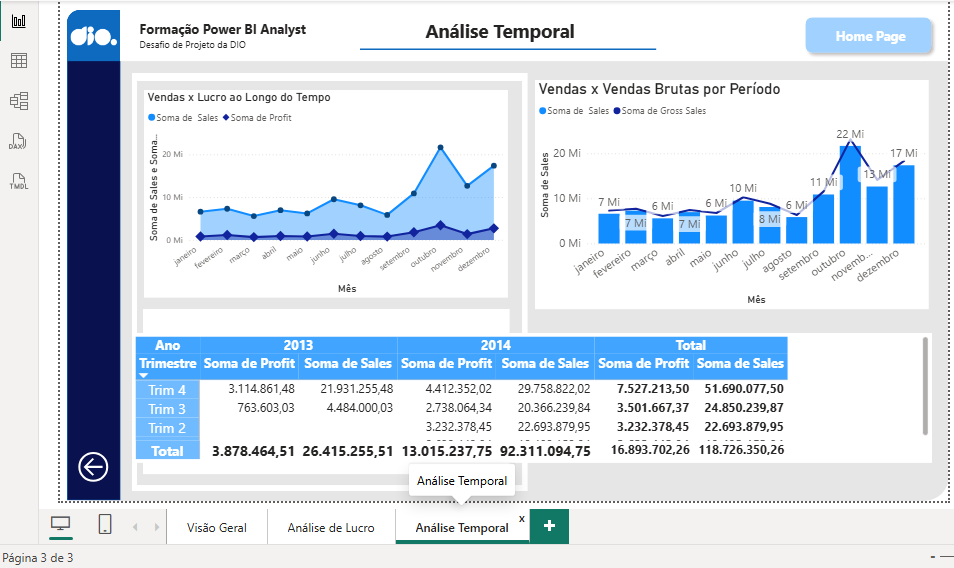

The page's visual inventory and layout, read from the dashboard file:
{"tool":"powerbi","page":{"name":"Análise Temporal","canvas":[1280,720],"ordinal":2},"visuals":[{"type":"group","id":"g1","title":"Layout","box":[10,12.8,1270,707],"z":0},{"type":"shape","box":[10,12.8,1270,707],"z":0,"group":"g1"},{"type":"shape","box":[432,49.9,426.8,38.3],"z":0,"group":"g3"},{"type":"shape","box":[103.6,103.6,569.9,601.9],"z":0,"group":"g2"},{"type":"shape","box":[10.1,13.4,77.2,706.3],"z":1000,"group":"g1"},{"type":"textbox","box":[433.2,18.7,424.3,53.9],"z":1000,"group":"g3"},{"type":"lineClusteredColumnComboChart","title":"Vendas x Vendas Brutas por Período","fields":{"Category":["financials.Date.Variation.Hierarquia de datas.Mês"],"Y":["Sum(financials. Sales)"],"Y2":["Sum(financials.Gross Sales)"]},"box":[684,113.8,567.4,329.8],"z":1000},{"type":"shape","box":[110.3,114.6,554.7,582.1],"z":1000,"group":"g2"},{"type":"shape","box":[10.1,13.4,77.2,73.8],"z":2000,"group":"g1"},{"type":"group","id":"g2","title":"Detalhes venda x profit","box":[103.6,103.6,962.5,601.9],"z":2000},{"type":"shape","box":[120.1,443.5,528.4,238.2],"z":2000,"group":"g2"},{"type":"image","title":"logo_dio","box":[10.1,18.4,77.2,62.1],"z":3000,"group":"g1"},{"type":"textbox","title":"Título do report","box":[109.7,22.9,377.9,64],"z":3000},{"type":"areaChart","title":"Vendas x Lucro ao Longo do Tempo","fields":{"Category":["financials.Date.Variation.Hierarquia de datas.Trimestre","financials.Date.Variation.Hierarquia de datas.Mês"],"Y":["Sum(financials. Sales)","Sum(financials.Profit)"]},"box":[120.9,128.6,524.2,298.7],"z":3000,"group":"g2"},{"type":"shape","box":[87,12.8,1193.1,74.1],"z":4000,"group":"g1"},{"type":"group","id":"g3","title":"Sales report","box":[432,18.7,426.2,69.1],"z":4000},{"type":"pivotTable","fields":{"Columns":["financials.Date.Variation.Hierarquia de datas.Ano"],"Rows":["financials.Date.Variation.Hierarquia de datas.Trimestre"],"Values":["Sum(financials.Profit)","Sum(financials. Sales)"]},"box":[104.1,468.5,961.9,197.3],"z":4000,"group":"g2"},{"type":"actionButton","box":[20.6,622.4,55.6,96.9],"z":6000},{"type":"actionButton","title":"Home Page","box":[1064.7,14.6,199.6,69.2],"z":9000,"group":"g4"},{"type":"textbox","box":[1101,33.7,134.4,34.6],"z":9500,"group":"g4"},{"type":"group","id":"g4","title":"Botão home","box":[1064.7,14.6,199.6,69.2],"z":9501}]}

Visuals, with their boxes on the page's 1280x720 design canvas (x1, y1, x2, y2). These are canvas units, not pixel positions in the 954x568 screenshot, which may show the page scaled, cropped or inside an application window:
"Layout" group: pyautogui.locateOnScreen(10, 13, 1280, 720)
shape: pyautogui.locateOnScreen(10, 13, 1280, 720)
shape: pyautogui.locateOnScreen(432, 50, 859, 88)
shape: pyautogui.locateOnScreen(104, 104, 674, 706)
shape: pyautogui.locateOnScreen(10, 13, 87, 720)
textbox: pyautogui.locateOnScreen(433, 19, 858, 73)
"Vendas x Vendas Brutas por Período" lineClusteredColumnComboChart: pyautogui.locateOnScreen(684, 114, 1251, 444)
shape: pyautogui.locateOnScreen(110, 115, 665, 697)
shape: pyautogui.locateOnScreen(10, 13, 87, 87)
"Detalhes venda x profit" group: pyautogui.locateOnScreen(104, 104, 1066, 706)
shape: pyautogui.locateOnScreen(120, 444, 648, 682)
"logo_dio" image: pyautogui.locateOnScreen(10, 18, 87, 80)
"Título do report" textbox: pyautogui.locateOnScreen(110, 23, 488, 87)
"Vendas x Lucro ao Longo do Tempo" areaChart: pyautogui.locateOnScreen(121, 129, 645, 427)
shape: pyautogui.locateOnScreen(87, 13, 1280, 87)
"Sales report" group: pyautogui.locateOnScreen(432, 19, 858, 88)
pivotTable - financials.Date.Variation.Hierarquia de datas.Ano x financials.Date.Variation.Hierarquia de datas.Trimestre: pyautogui.locateOnScreen(104, 468, 1066, 666)
actionButton: pyautogui.locateOnScreen(21, 622, 76, 719)
"Home Page" actionButton: pyautogui.locateOnScreen(1065, 15, 1264, 84)
textbox: pyautogui.locateOnScreen(1101, 34, 1235, 68)
"Botão home" group: pyautogui.locateOnScreen(1065, 15, 1264, 84)
